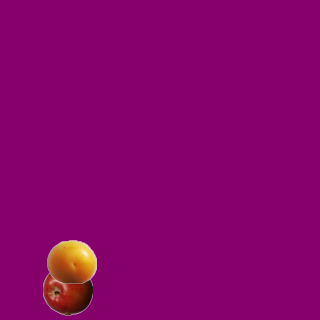Apple Braeburn: (42, 265, 92, 315)
Cherry Wax Yellow: (46, 236, 96, 286)
